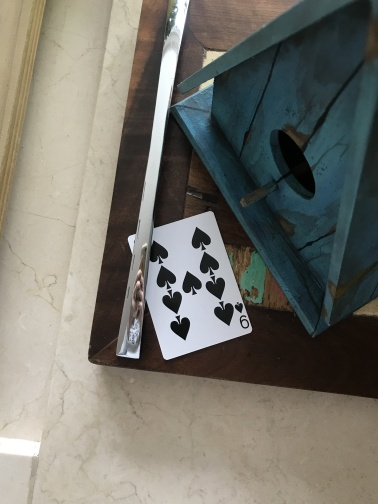nine: (125, 208, 253, 361)
